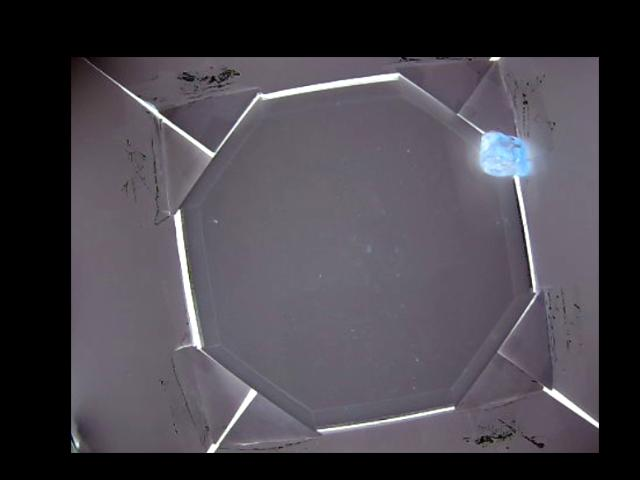Brisk: (481, 129, 532, 178)
